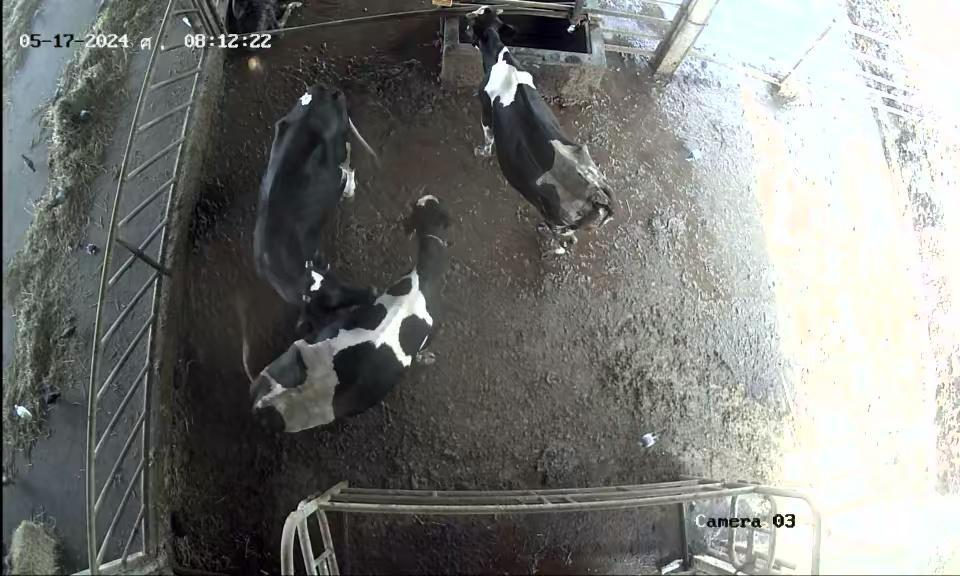drink: (453, 2, 539, 100)
stand: (203, 196, 463, 443), (231, 73, 387, 318)
